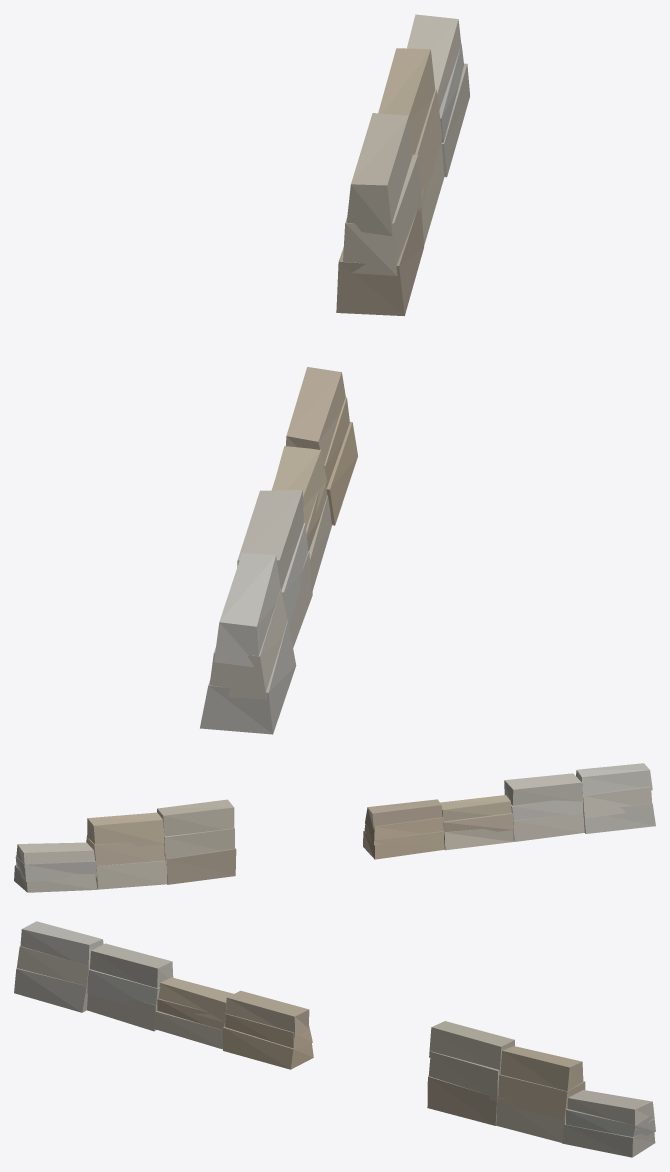
File: farm_25_17_mid.glb
3 views of the same model, one above another, from view 1: azimuth 30°, elevation 25°; view 2: azimuth 150°, elevation 25°; view 3: azimuth 270°, elevation 25° (orthographic). The views are drawn at different scales.
Visible parts, largest first — view 1: geometry_0; view 2: geometry_0; view 3: geometry_0.
Part boxes in pixels (left/top/right/bottom): geometry_0: left=200, top=14, right=469, bottom=734; geometry_0: left=14, top=763, right=655, bottom=892; geometry_0: left=14, top=921, right=655, bottom=1157.
Size of the model in its own units: 8.92 by 1.99 by 10.93.
